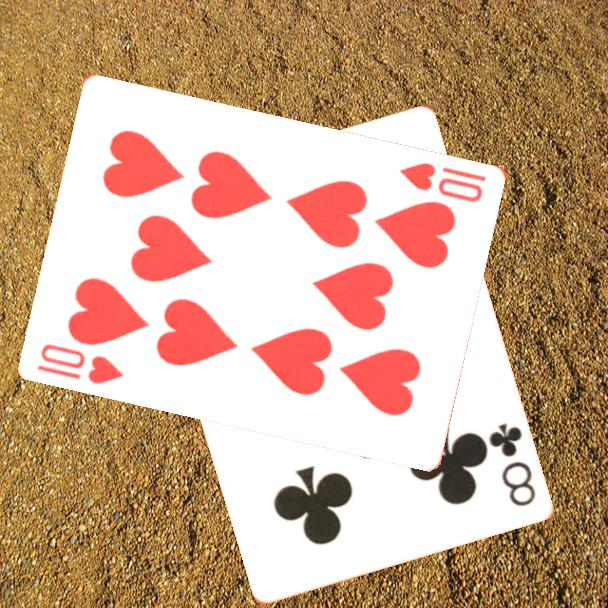c08: (486, 419, 539, 510)
h10: (396, 158, 489, 205), (34, 340, 127, 387)
